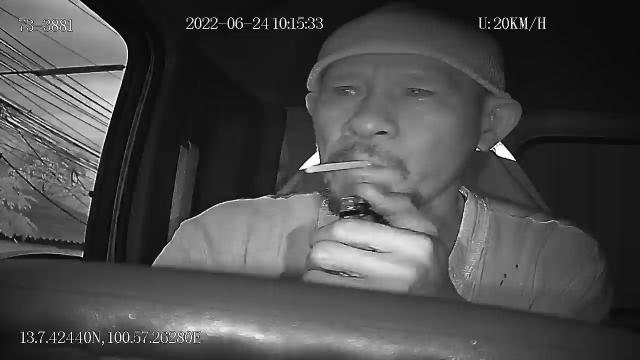SafeDriving: (394, 77, 444, 105), (321, 74, 370, 102)
Smoking: (302, 158, 376, 175)
